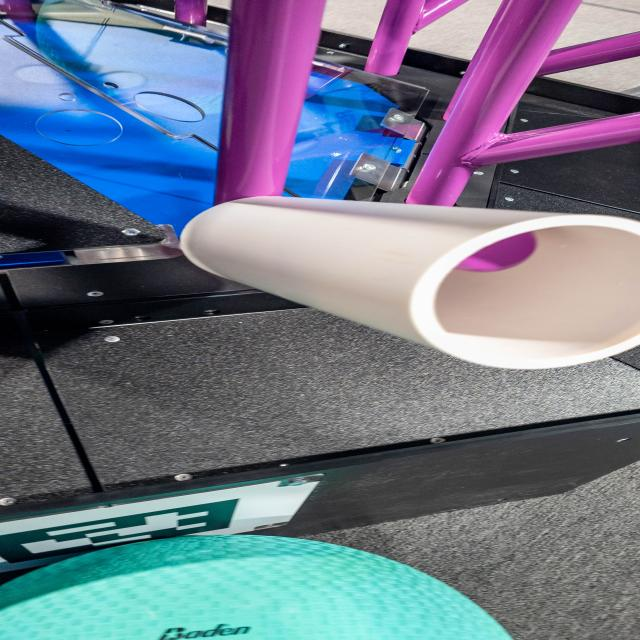Algae: (0, 535, 512, 640)
Coral: (183, 197, 639, 370)
